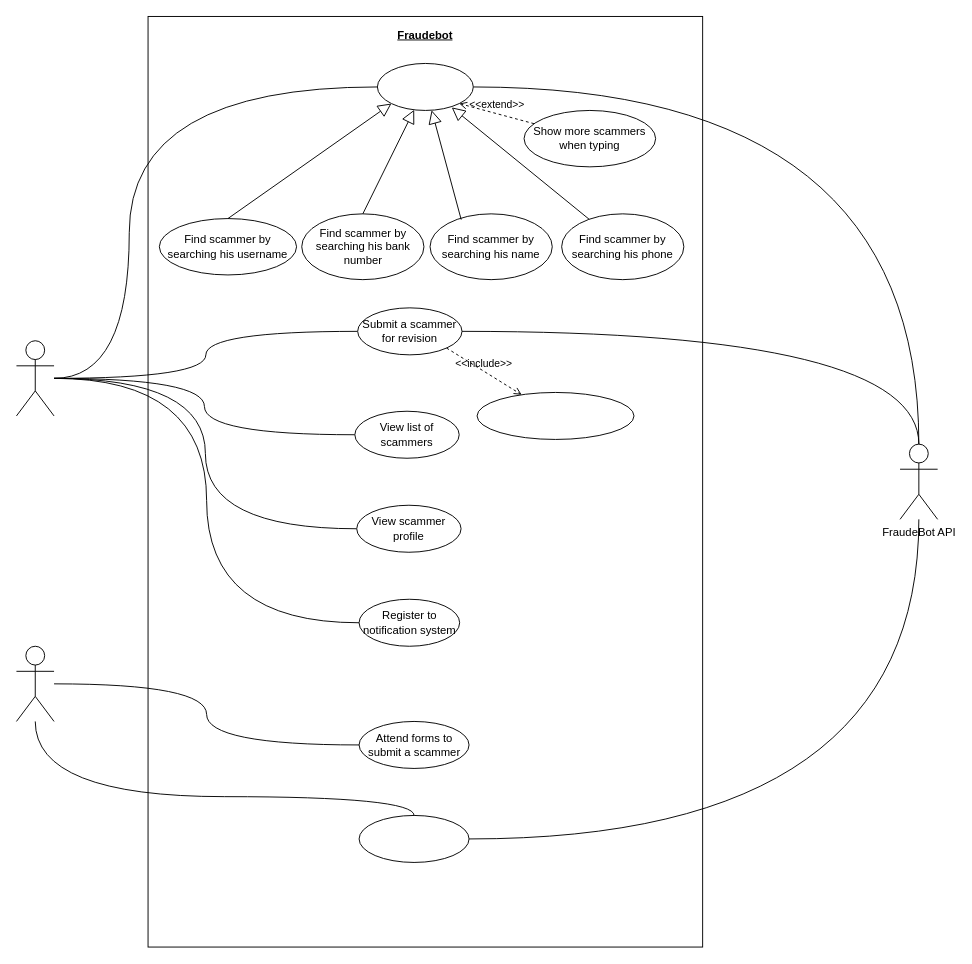
The diagram is 972 pixels wide and 964 high, and some of its shapes have lost their labels. The centre of each missing label's shape, as x and y in pixels:
"Admin" goes at point (35, 683).
"Ask for proof (screenshot, Facebook post, Facebook URL)" goes at point (555, 415).
"CRUD scammers" goes at point (413, 838).
"Find scammer" goes at point (424, 86).
"User" goes at point (35, 378).
